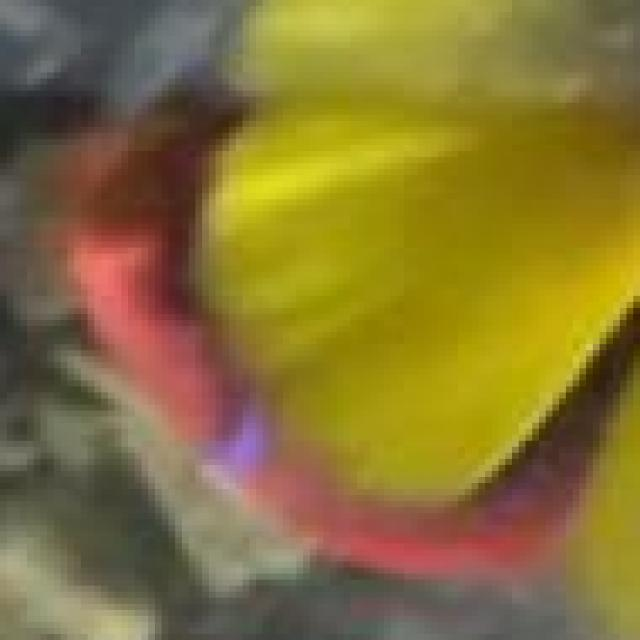fish: (6, 0, 640, 634)
